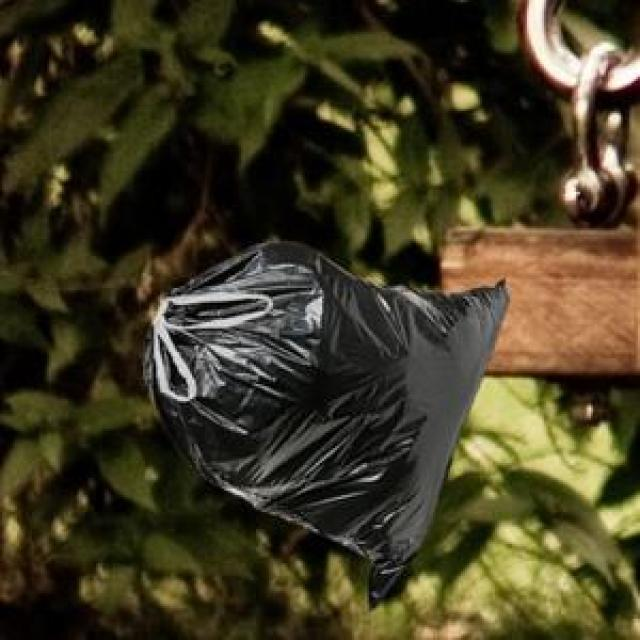waste: (146, 245, 508, 599)
